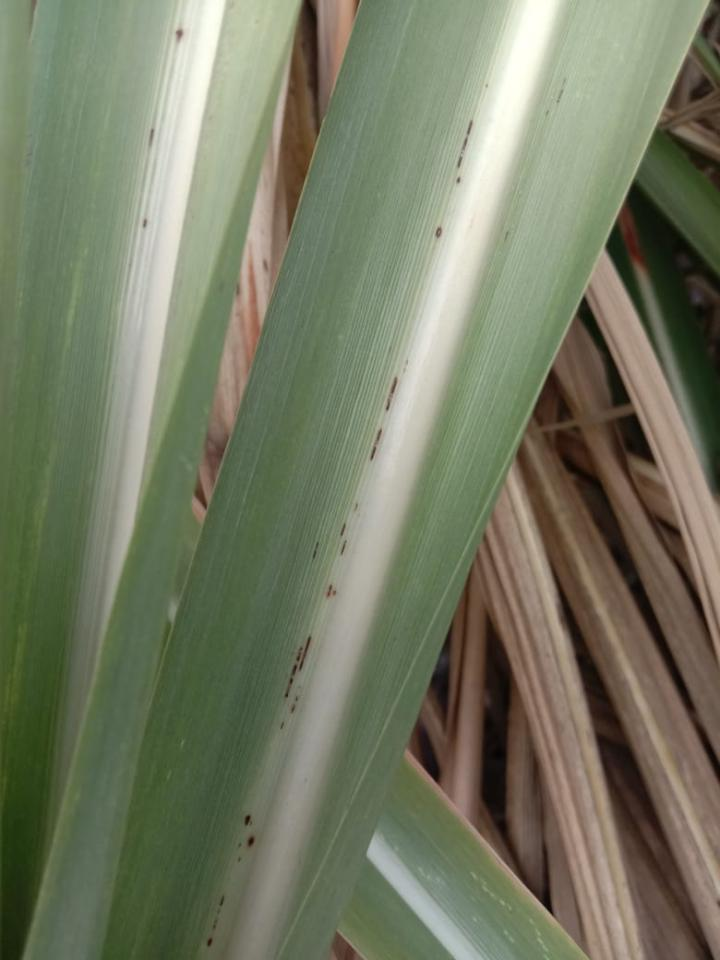Rust: (195, 805, 268, 955), (300, 480, 372, 616), (356, 338, 422, 476), (263, 628, 325, 739), (446, 77, 497, 193), (539, 73, 573, 121), (136, 122, 159, 159), (428, 220, 450, 245), (171, 23, 189, 47), (135, 214, 155, 232)
